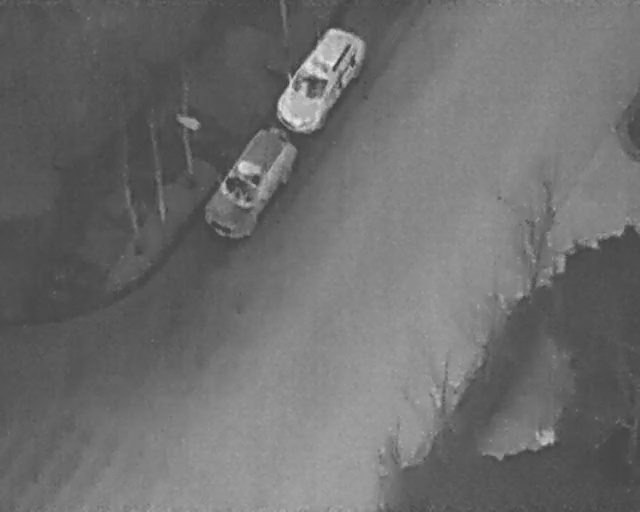Car: (196, 120, 307, 251), (268, 19, 372, 141)
